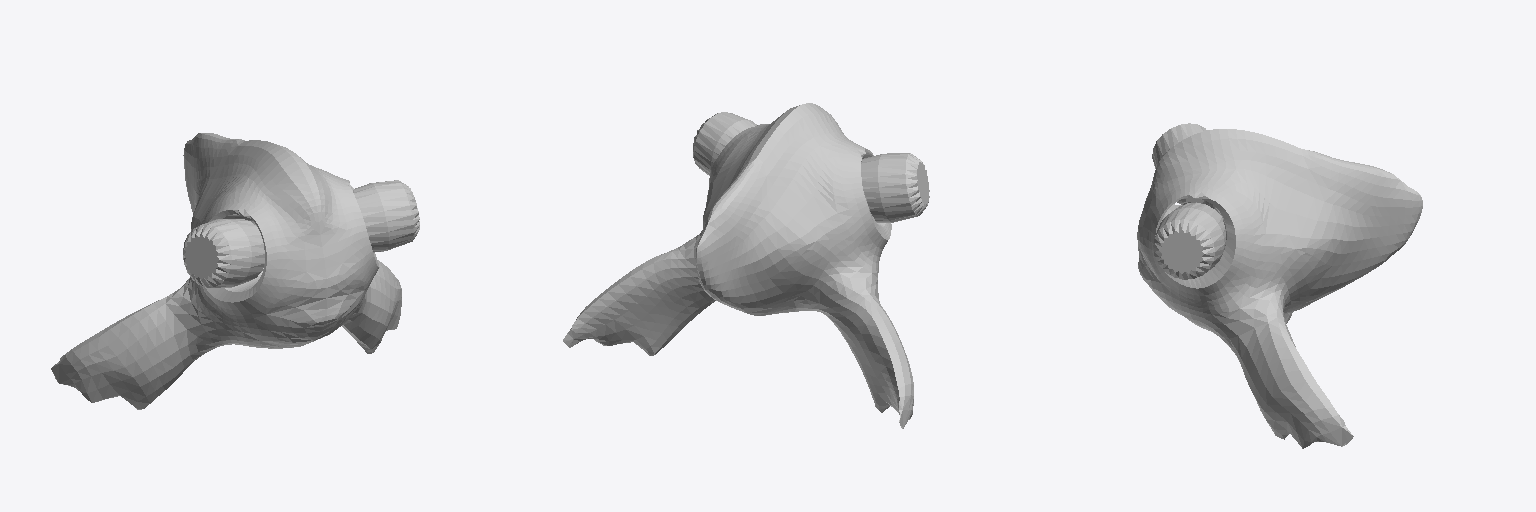
Rendered from fishy3.obj.
The picture shows the model from 3 angles: view 1: azimuth 30°, elevation 25°; view 2: azimuth 150°, elevation 25°; view 3: azimuth 270°, elevation 25°; orthographic projection.
Visible parts, largest first — view 1: FishMesh, Eye2, Eye1; view 2: FishMesh, Eye2, Eye1; view 3: FishMesh, Eye1, Eye2.
Boxes of the visible parts, x1=… form: FishMesh: x1=51, y1=133, x2=401, y2=409; Eye2: x1=183, y1=219, x2=264, y2=287; Eye1: x1=354, y1=180, x2=419, y2=252; FishMesh: x1=563, y1=103, x2=913, y2=428; Eye2: x1=861, y1=153, x2=929, y2=222; Eye1: x1=693, y1=112, x2=756, y2=175; FishMesh: x1=1137, y1=129, x2=1422, y2=448; Eye1: x1=1153, y1=202, x2=1225, y2=279; Eye2: x1=1152, y1=123, x2=1206, y2=204.
Bounding box in the file's own units: 4.66 × 3.37 × 3.43.